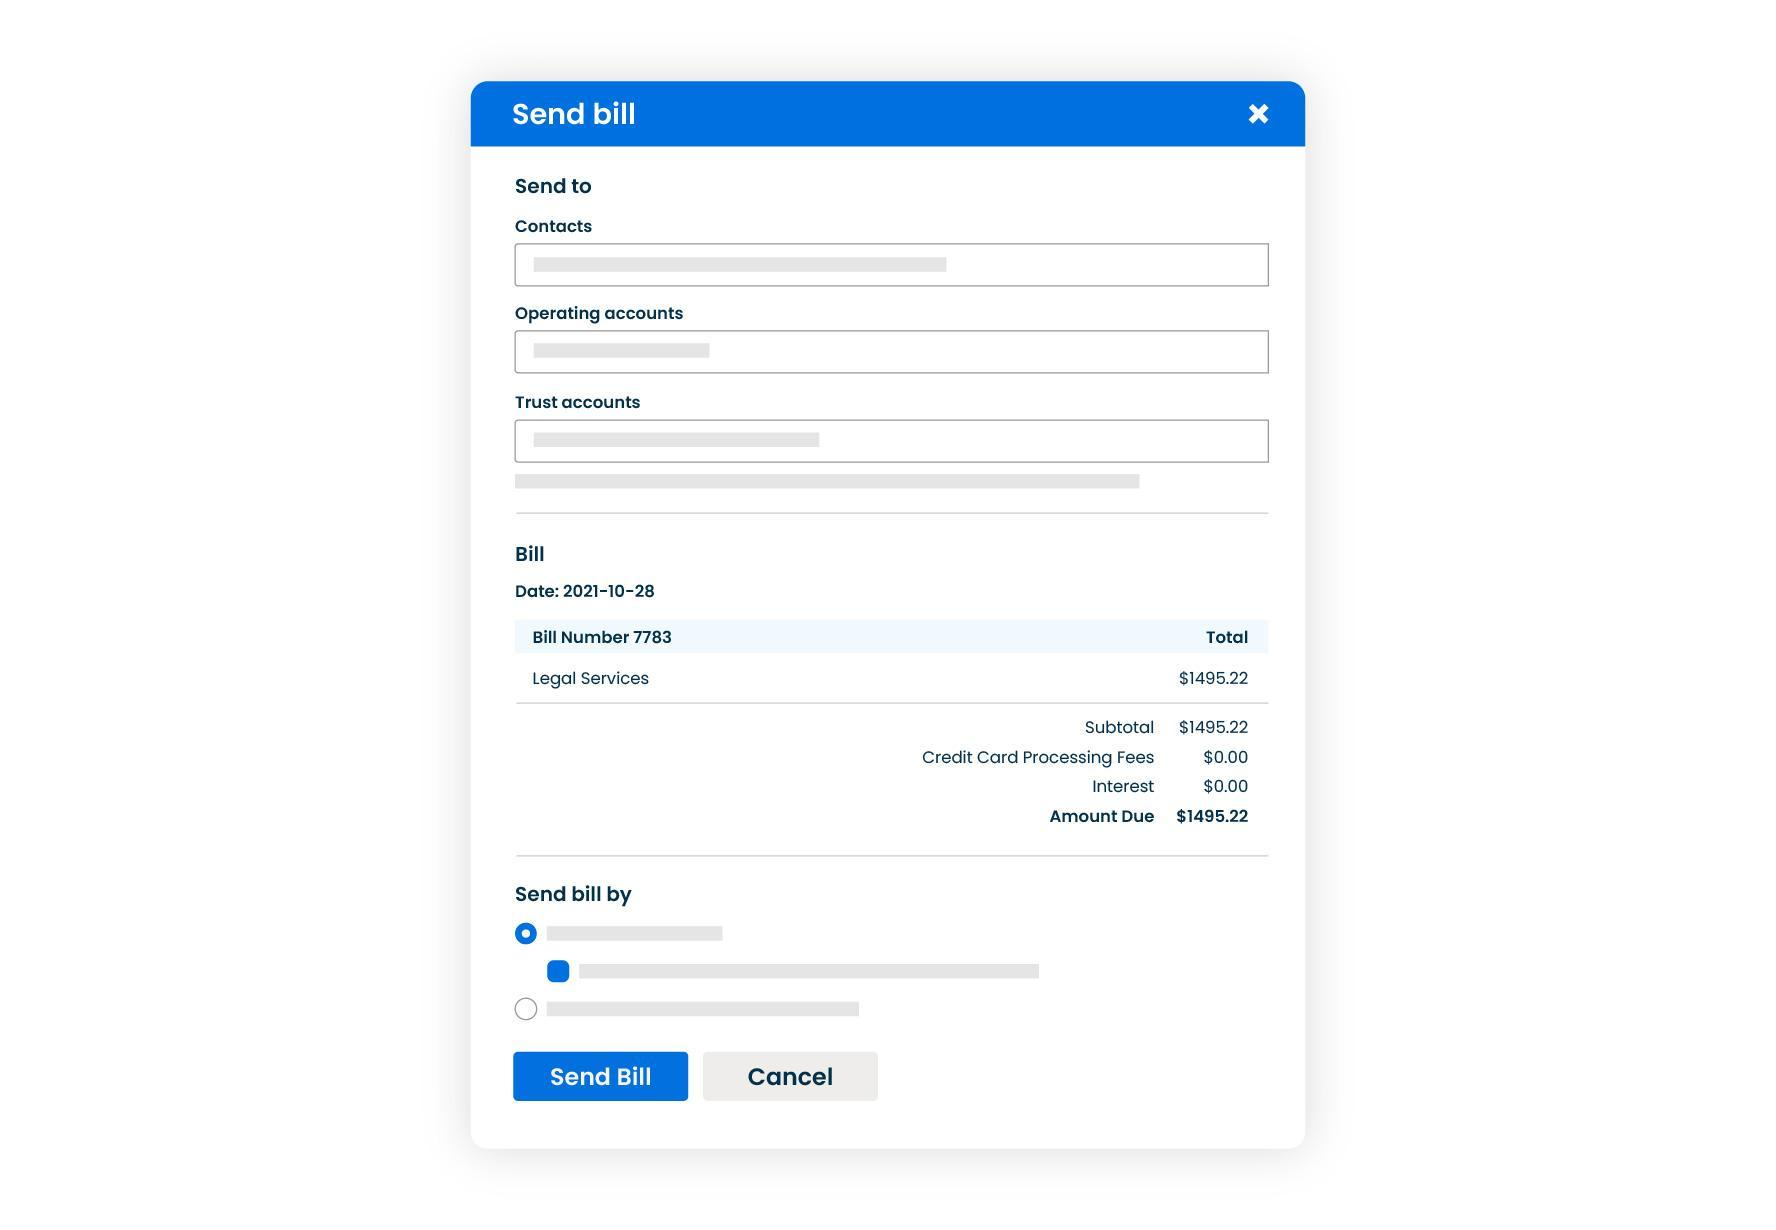button: (513, 1046, 692, 1107), (699, 1046, 884, 1104)
checkbox: (544, 959, 574, 983)
label: (916, 747, 1254, 770), (1049, 806, 1252, 830), (506, 99, 645, 128), (1084, 718, 1251, 741), (522, 666, 656, 691), (513, 883, 637, 909), (516, 305, 686, 323), (530, 626, 676, 647), (1090, 779, 1254, 797), (516, 393, 641, 415), (510, 585, 655, 599), (1173, 667, 1247, 693), (520, 176, 592, 194), (516, 223, 596, 238), (1193, 629, 1256, 648), (511, 544, 555, 564)
radio: (510, 921, 543, 946), (513, 1000, 536, 1022)
